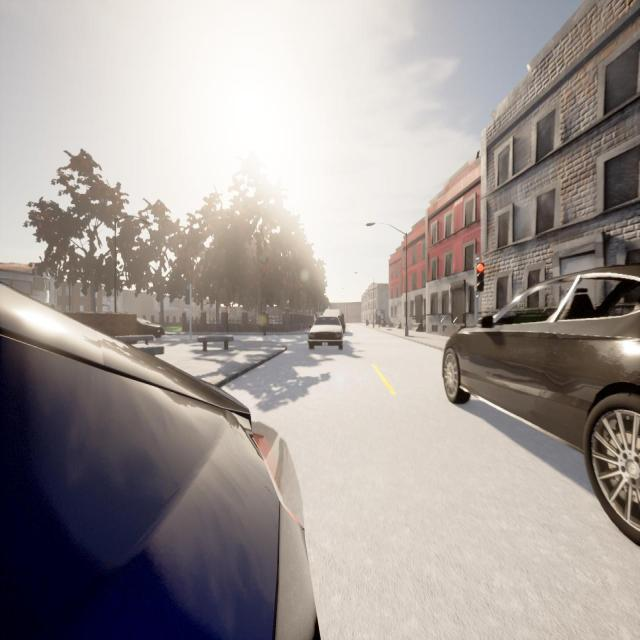Pedestrian: (260, 309, 267, 337)
Traffic_Signs: (377, 310, 381, 316)
Vehicle: (0, 279, 319, 640), (442, 266, 640, 544), (308, 315, 343, 350), (136, 317, 165, 338), (322, 310, 346, 334)
traffic_light: (476, 262, 485, 292), (183, 288, 190, 305)
